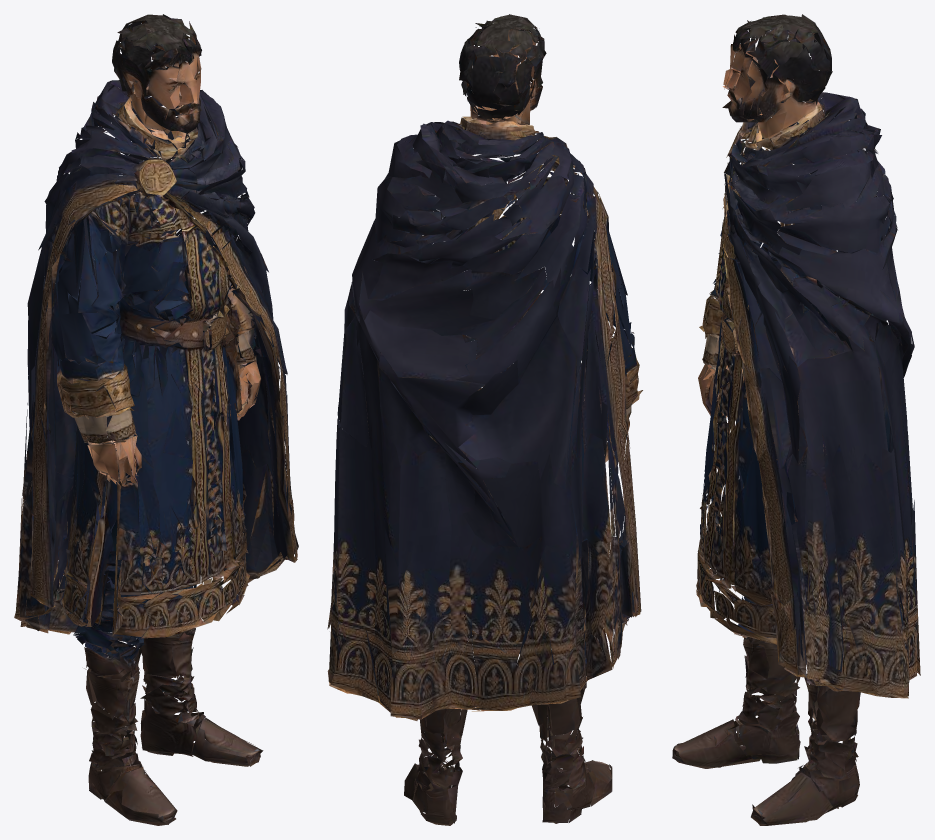
Rendered from npc-envoy.glb.
3 views of the same model, side by side, from view 1: azimuth 30°, elevation 25°; view 2: azimuth 150°, elevation 25°; view 3: azimuth 270°, elevation 25° (orthographic). The views are drawn at different scales.
Parts seen in each view (by area): view 1: Mesh_0; view 2: Mesh_0; view 3: Mesh_0.
Boxes of the visible parts, box(x1,y1,x2,y2) form: Mesh_0: box(14, 14, 298, 825); Mesh_0: box(327, 14, 642, 825); Mesh_0: box(672, 14, 920, 825).
Size of the model in its own units: 0.7365 by 1.9 by 0.5594.
1 material, 1 textured.
